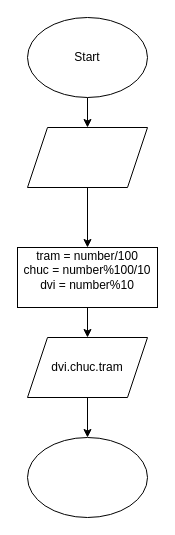
Image size: 175x535. Some labels were removed from this diagram. The centre of each missing label's shape, as x and y in pixels:
"End" goes at point (87, 477).
"Number" goes at point (87, 157).
